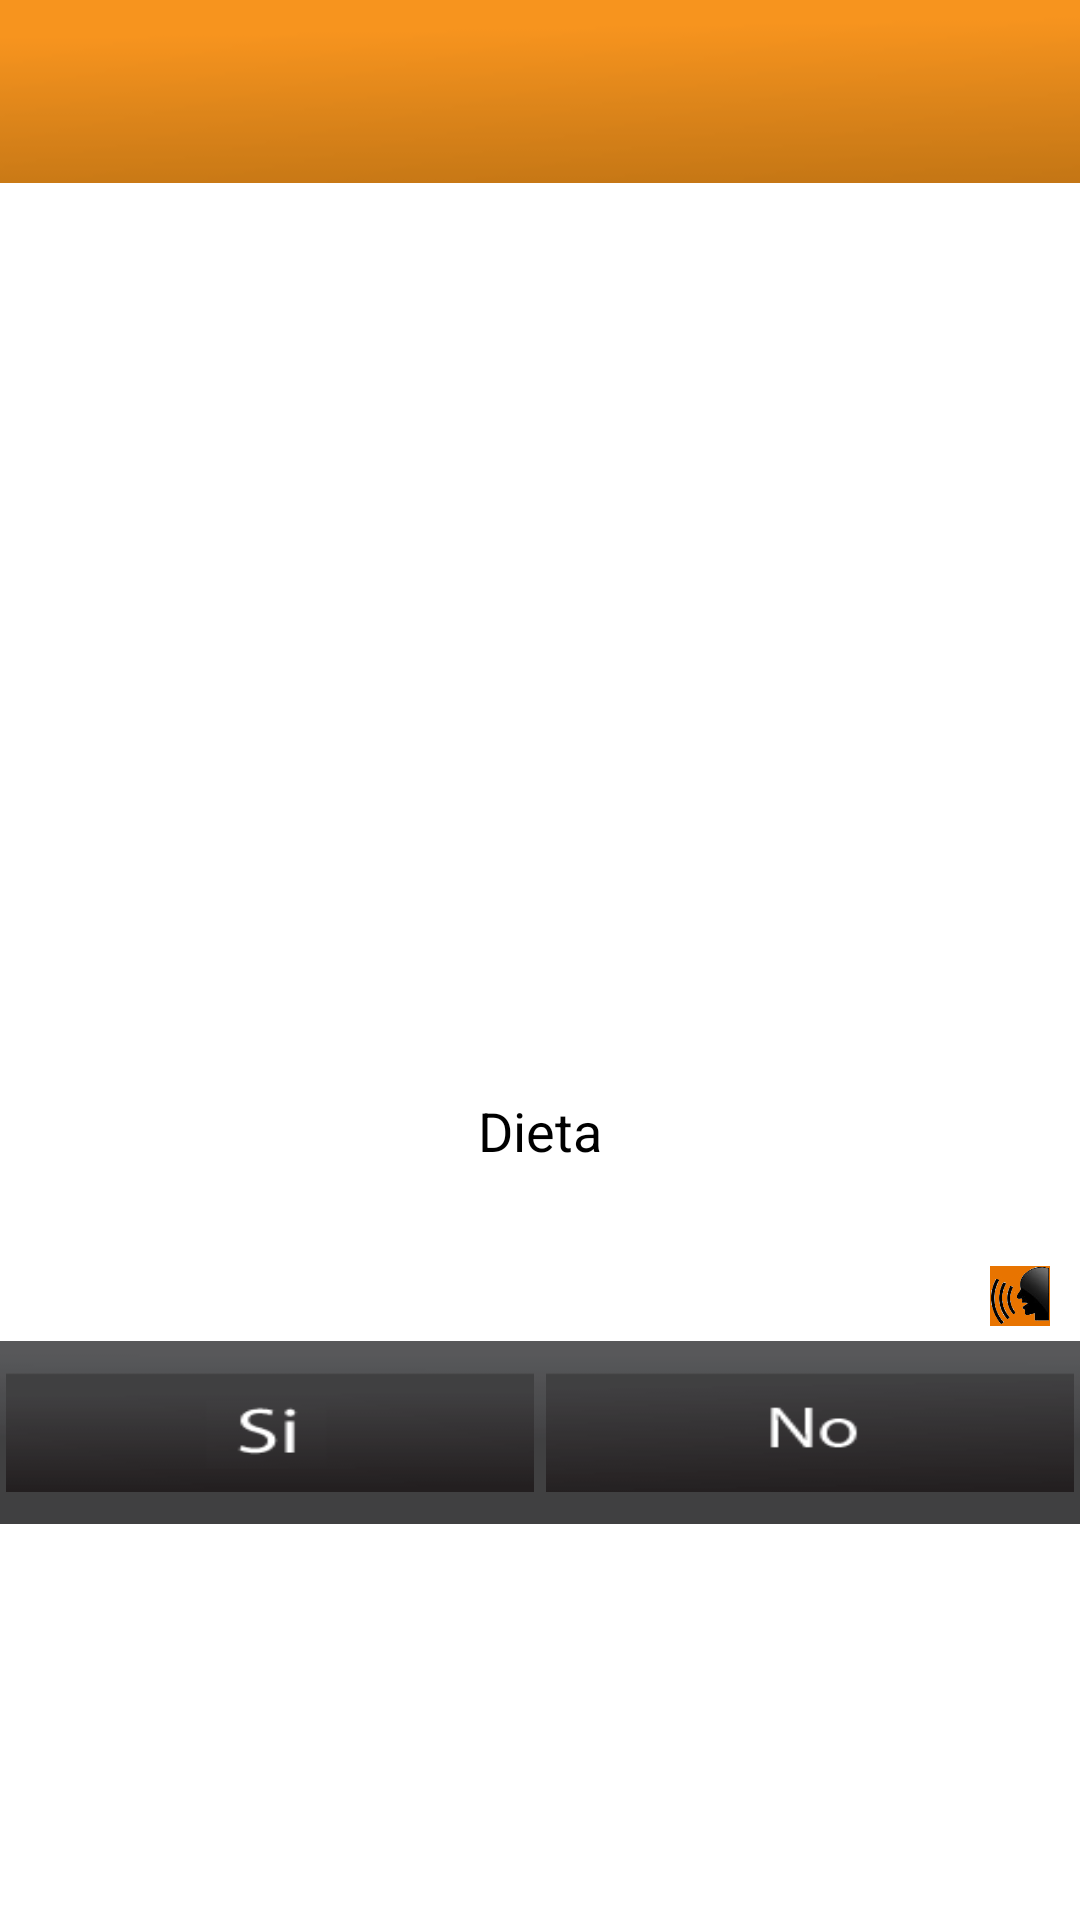

Named icons in this screenshot (1080px x 1920px) and their bounding boxes, (left=x1, top=y1, right=x2, bottom=y2):
soundicon: (left=990, top=1266, right=1050, bottom=1326)
